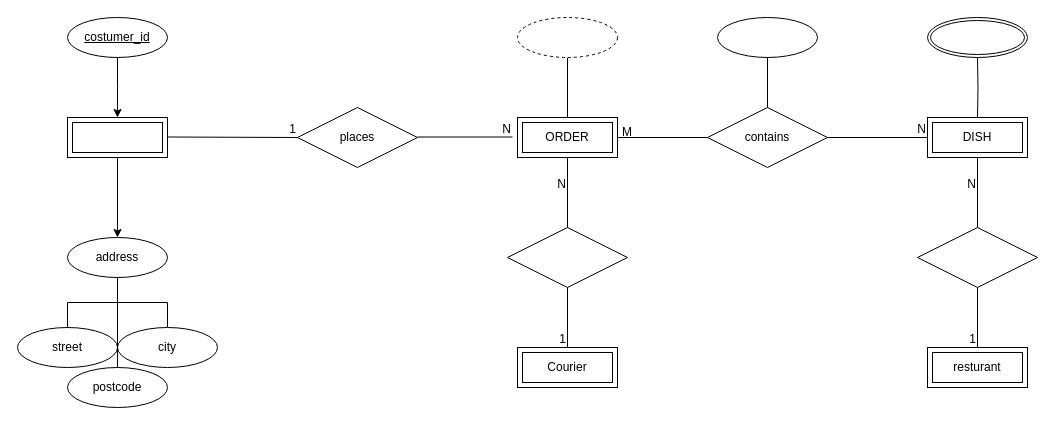
Image size: 1055x425. Some labels were removed from this diagram. The shapes that lost their labels are listed below. From the top down, each one's box as (x1, y1, x2, y2) in pixels, then its label:
(516, 16, 618, 58): total
(716, 16, 818, 58): quality
(926, 16, 1028, 58): allergies
(66, 116, 168, 158): CUSTOMER
(506, 226, 628, 288): delivers
(916, 226, 1038, 288): offers
